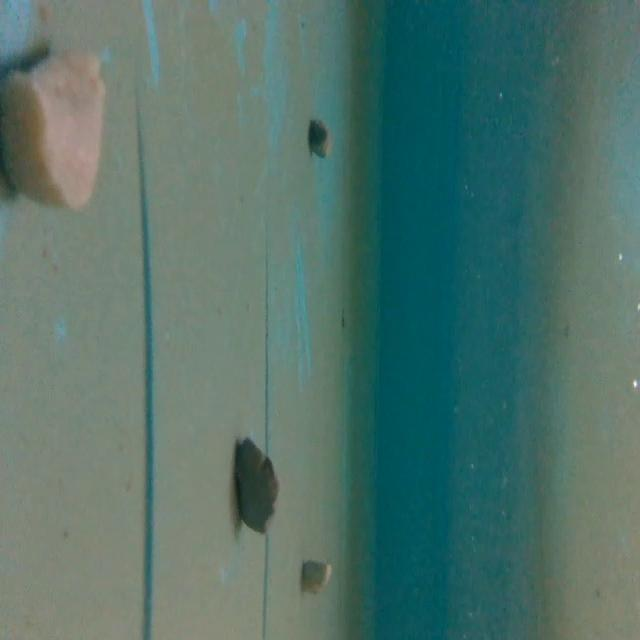rock: (1, 38, 120, 215), (231, 431, 285, 535), (299, 552, 334, 600), (307, 110, 334, 164)
